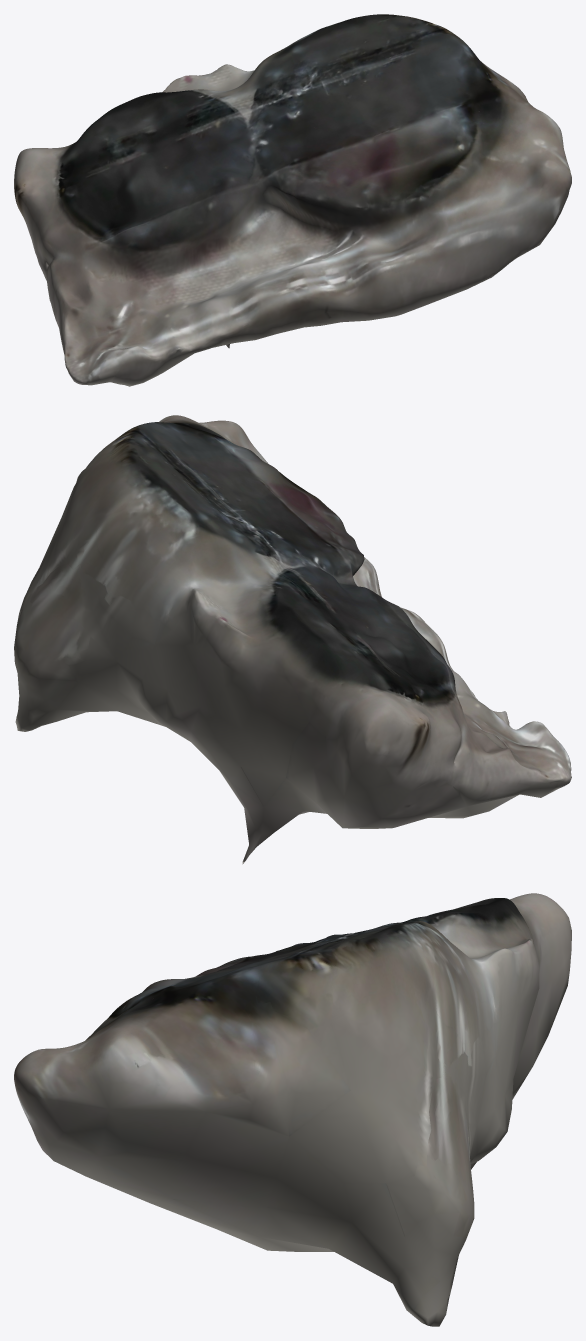
3 renders of one model, top to bottom at view 1: azimuth 30°, elevation 25°; view 2: azimuth 150°, elevation 25°; view 3: azimuth 270°, elevation 25°, orthographic. The views are drawn at different scales.
Bounding box in the file's own units: 0.5094 × 0.3494 × 0.41.
Materials: 1 (1 with a texture image).
